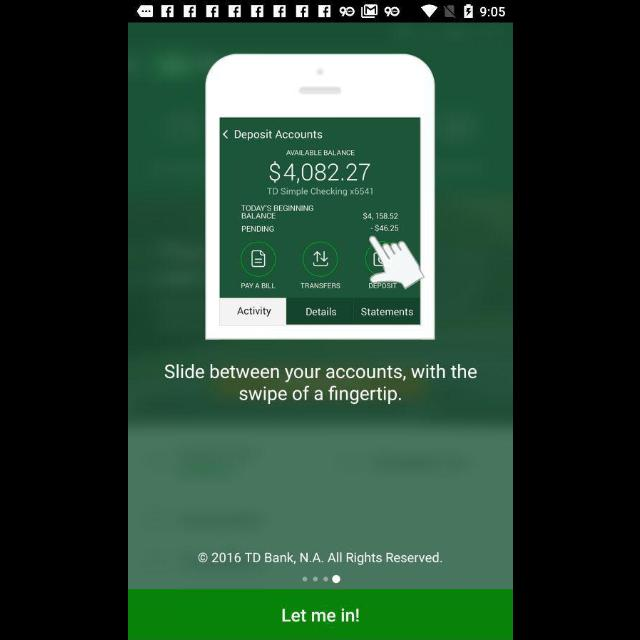image: (204, 54, 434, 340)
pageindicator: (302, 574, 341, 584)
text: (164, 364, 476, 404), (197, 552, 441, 566)
textbutton: (128, 590, 512, 640)
uppertaskbar: (128, 1, 512, 23)
